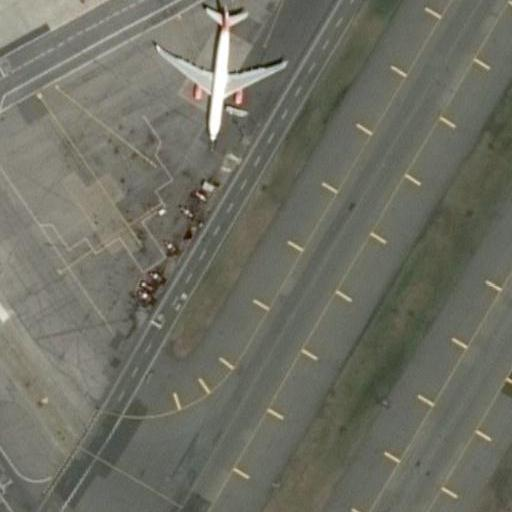Aircraft: (134, 0, 292, 139)
